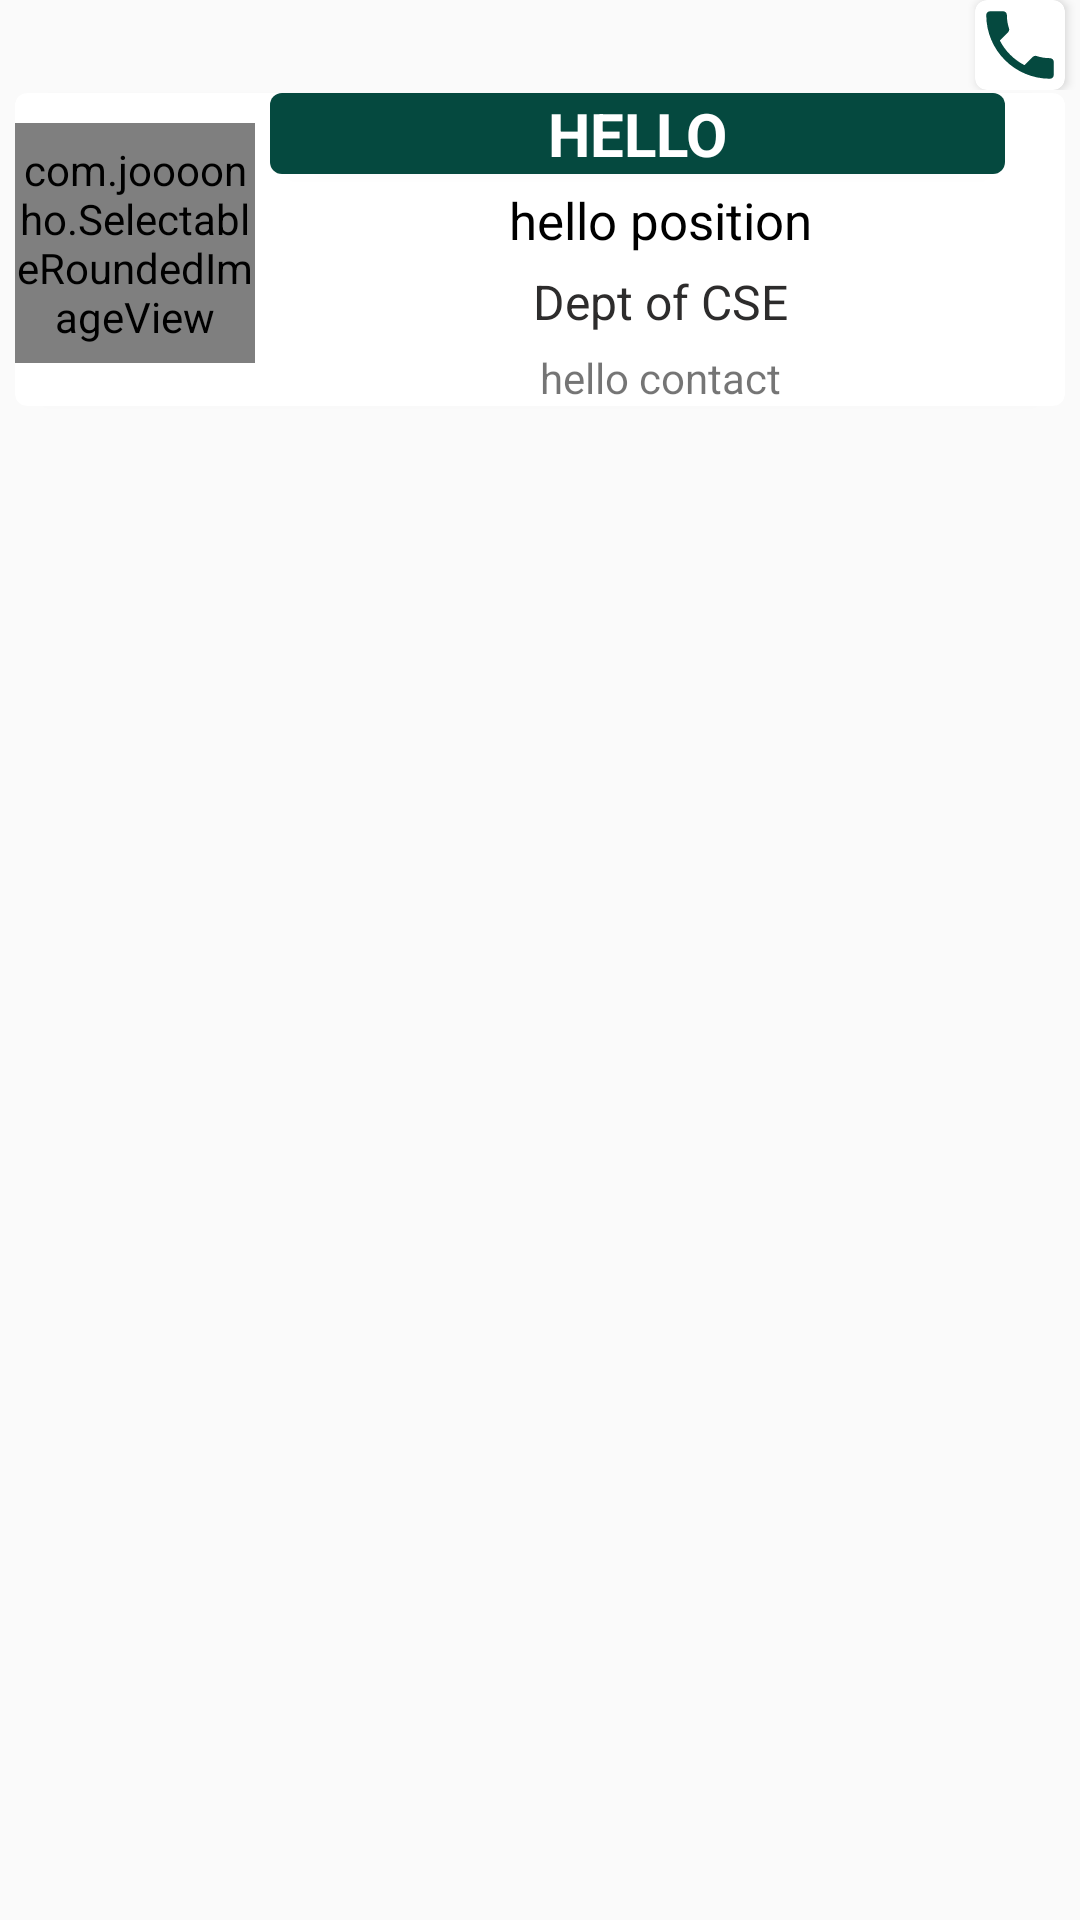

Icon bounding boxes for this 1080px x 1920px phone screenshot, format box(x1, y1, x2, y2):
call: box(986, 1, 1065, 89)
